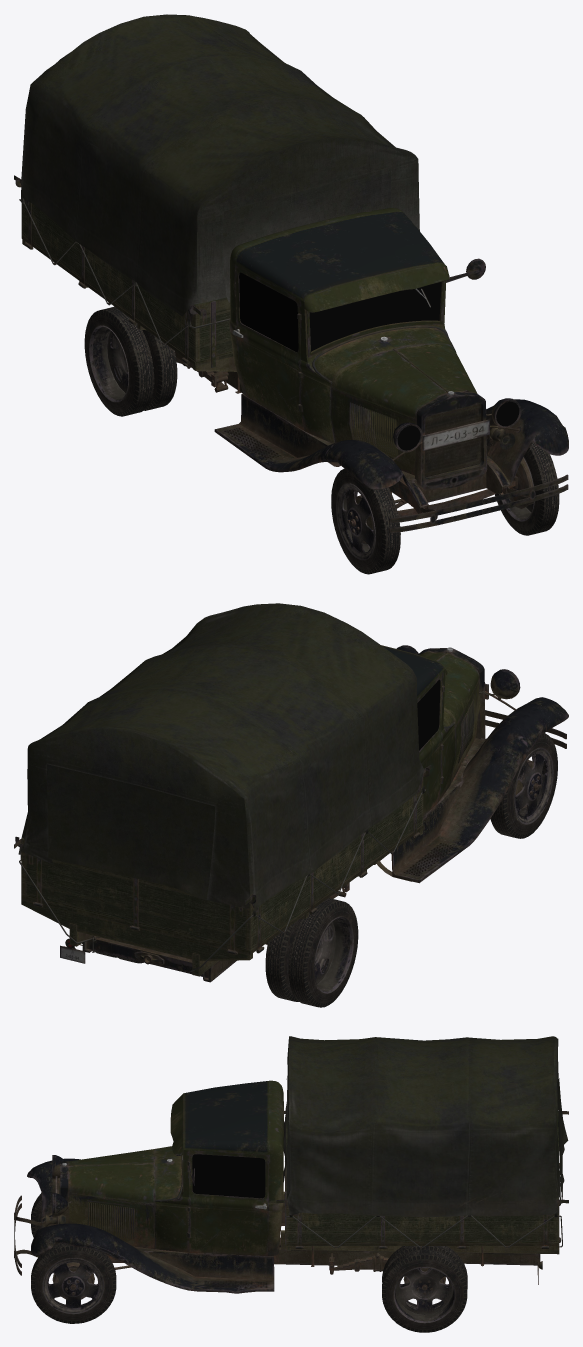
File: Gaz AA.fbx
The picture shows the model from 3 angles, top to bottom: view 1: azimuth 30°, elevation 25°; view 2: azimuth 150°, elevation 25°; view 3: azimuth 270°, elevation 25°; orthographic projection. The views are drawn at different scales.
Visible parts, largest first — view 1: desirefx.me_004, desirefx.me_001, desirefx.me_002, desirefx.me_003; view 2: desirefx.me_004, desirefx.me_001, desirefx.me_002, desirefx.me_003; view 3: desirefx.me_004, desirefx.me_001, desirefx.me_002, desirefx.me_003.
Part boxes in pixels (x1=…): desirefx.me_004: x1=19, y1=14, x2=419, y2=345; desirefx.me_001: x1=14, y1=175, x2=568, y2=544; desirefx.me_002: x1=84, y1=306, x2=559, y2=574; desirefx.me_003: x1=239, y1=272, x2=519, y2=450; desirefx.me_004: x1=18, y1=603, x2=425, y2=979; desirefx.me_001: x1=14, y1=645, x2=568, y2=982; desirefx.me_002: x1=94, y1=733, x2=557, y2=1007; desirefx.me_003: x1=417, y1=679, x2=440, y2=750; desirefx.me_004: x1=283, y1=1036, x2=568, y2=1247; desirefx.me_001: x1=14, y1=1080, x2=568, y2=1299; desirefx.me_002: x1=31, y1=1193, x2=467, y2=1332; desirefx.me_003: x1=192, y1=1154, x2=265, y2=1198.
Size of the model in its own units: 7.86 by 9.41 by 19.6.
